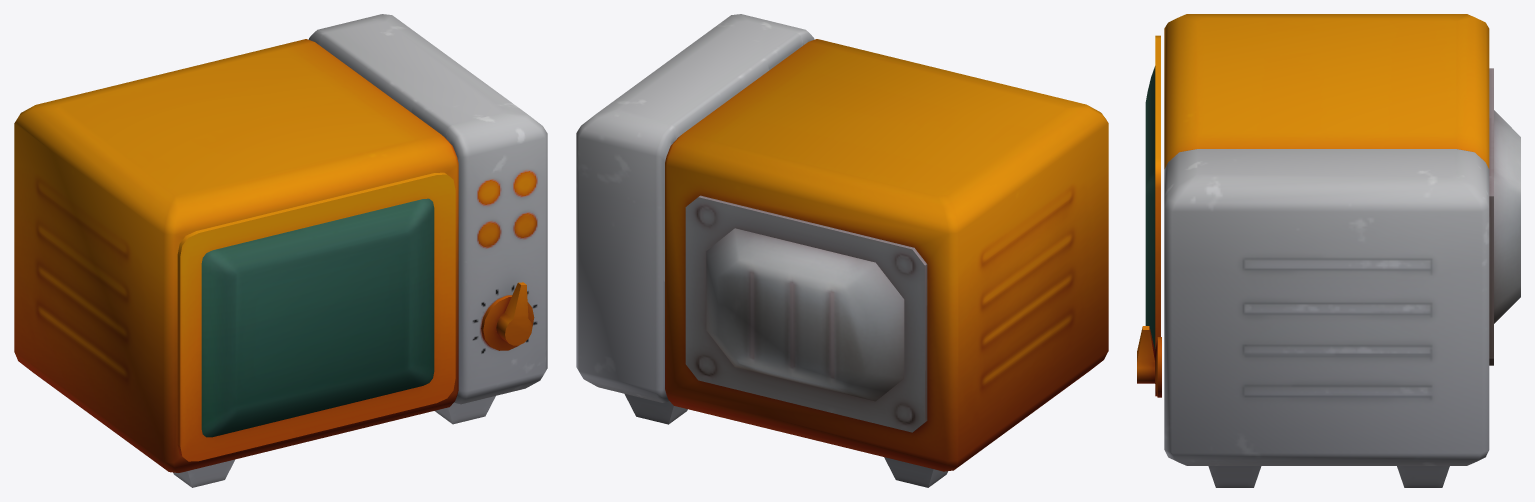
The model's file is Microwave01.FBX.
3 renders of one model, left to right at view 1: azimuth 30°, elevation 25°; view 2: azimuth 150°, elevation 25°; view 3: azimuth 270°, elevation 25°, orthographic. The views are drawn at different scales.
Parts seen in each view (by area): view 1: MicroWave01; view 2: MicroWave01; view 3: MicroWave01.
Part boxes in pixels (x1=…): MicroWave01: x1=14, y1=14, x2=547, y2=487; MicroWave01: x1=576, y1=14, x2=1108, y2=487; MicroWave01: x1=1137, y1=14, x2=1520, y2=487.
Size of what is drawn, in the model's own units: 0.5086 by 0.39 by 0.4271.
